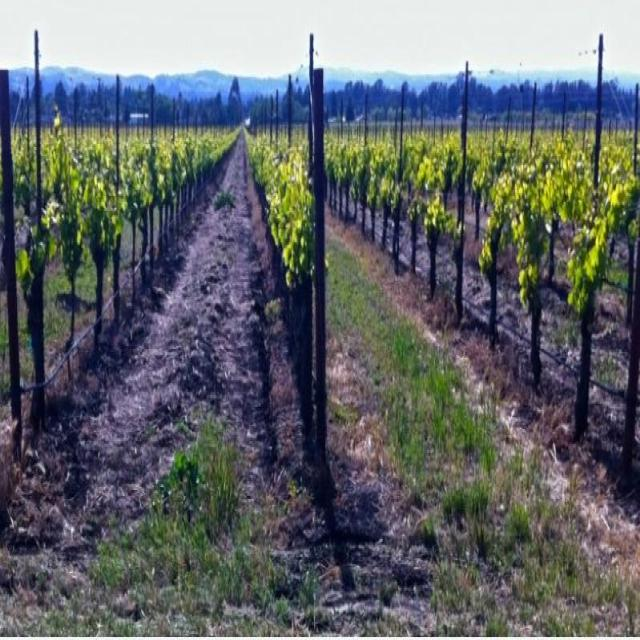row: (14, 129, 302, 488), (325, 206, 629, 491)
